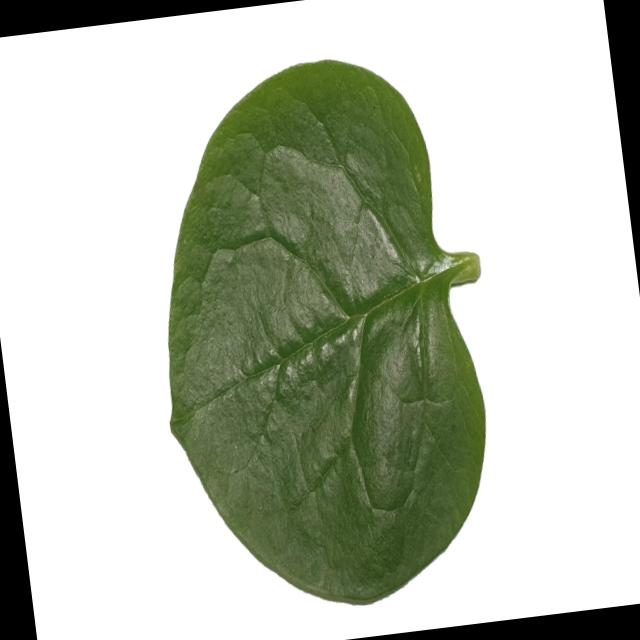Medicinal-Basale: (126, 42, 520, 628)
